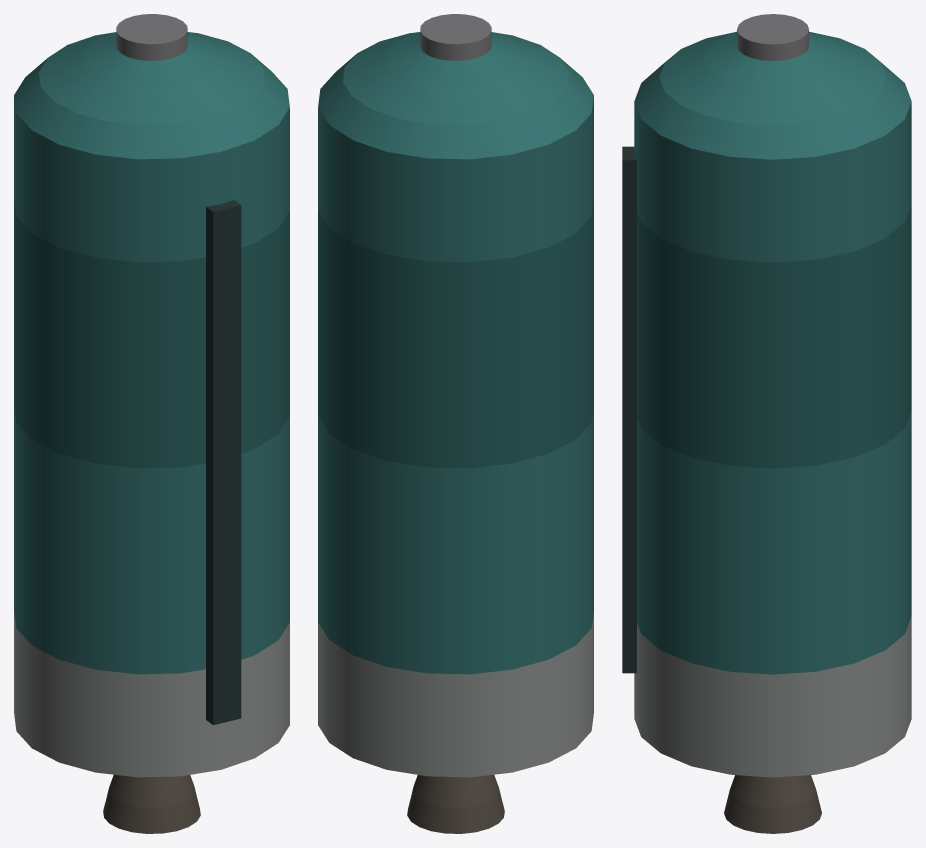
The model's file is rb-cyl-delta.obj.
3 views of the same model, side by side, from view 1: azimuth 30°, elevation 25°; view 2: azimuth 150°, elevation 25°; view 3: azimuth 270°, elevation 25° (orthographic).
Parts seen in each view (by area): view 1: rb-cyl-delta; view 2: rb-cyl-delta; view 3: rb-cyl-delta.
Boxes of the visible parts, x1=… form: rb-cyl-delta: x1=14, y1=14, x2=289, y2=833; rb-cyl-delta: x1=318, y1=14, x2=593, y2=833; rb-cyl-delta: x1=622, y1=14, x2=911, y2=833.
Bounding box in the file's own units: 0.24 × 0.7487 × 0.2505.
